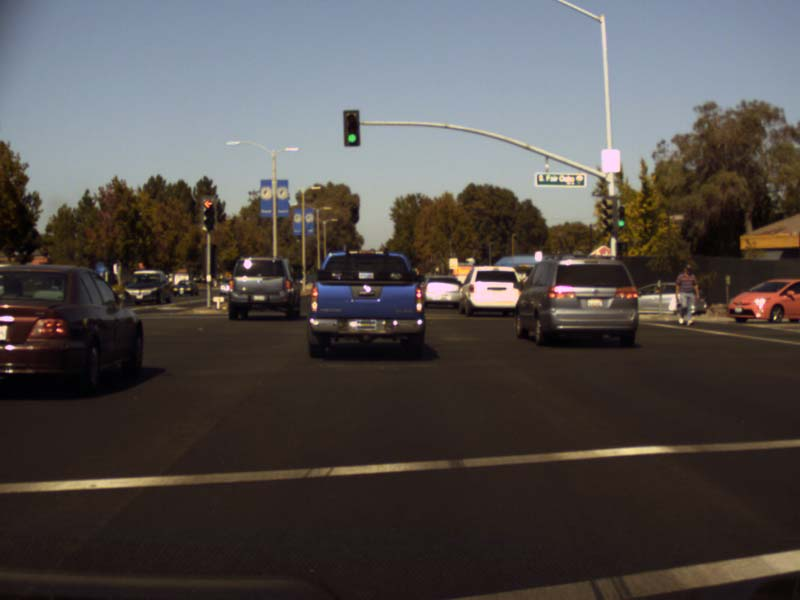Green: (343, 109, 359, 146), (616, 206, 626, 229)
Red: (199, 196, 217, 231)
